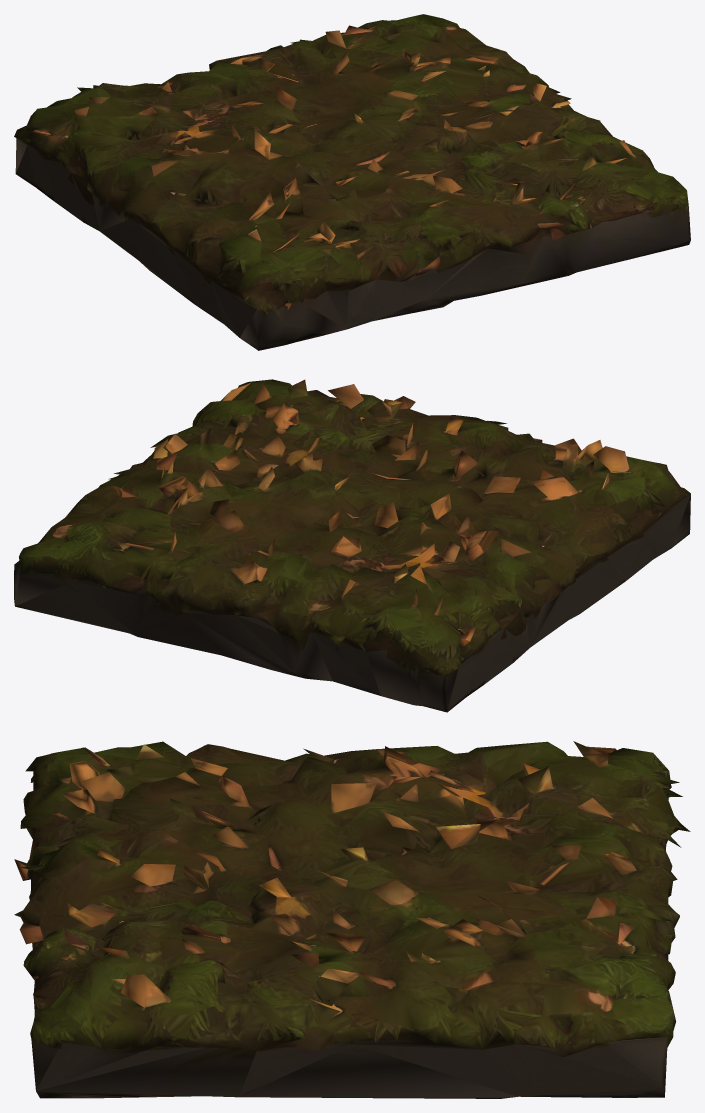
File: gnd_gothic_moss_bed.fbx
3 renders of one model, top to bottom at view 1: azimuth 30°, elevation 25°; view 2: azimuth 150°, elevation 25°; view 3: azimuth 270°, elevation 25°, orthographic. The views are drawn at different scales.
Parts seen in each view (by area): view 1: gnd_gothic_moss_bed_LOD0; view 2: gnd_gothic_moss_bed_LOD0; view 3: gnd_gothic_moss_bed_LOD0.
Boxes of the visible parts, x1=… form: gnd_gothic_moss_bed_LOD0: x1=14, y1=14, x2=690, y2=350; gnd_gothic_moss_bed_LOD0: x1=14, y1=379, x2=690, y2=712; gnd_gothic_moss_bed_LOD0: x1=14, y1=741, x2=690, y2=1098.
Size of what is drawn, in the model's own units: 0.9682 by 0.1981 by 0.965.
